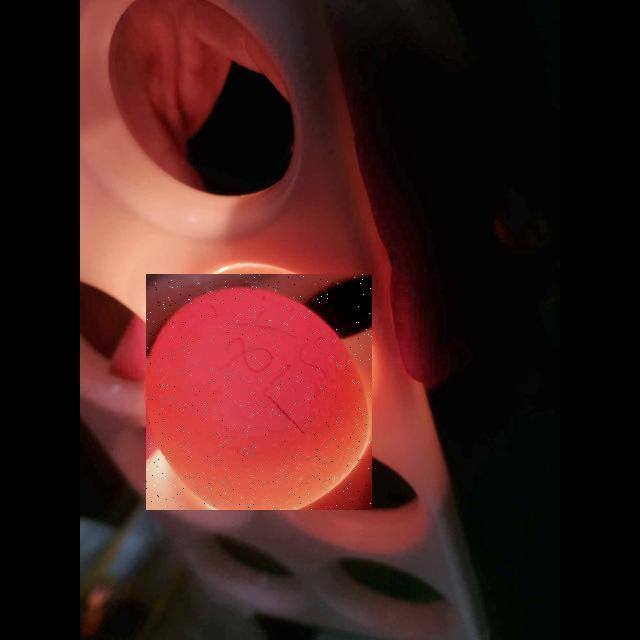Infertile: (146, 274, 372, 510)
